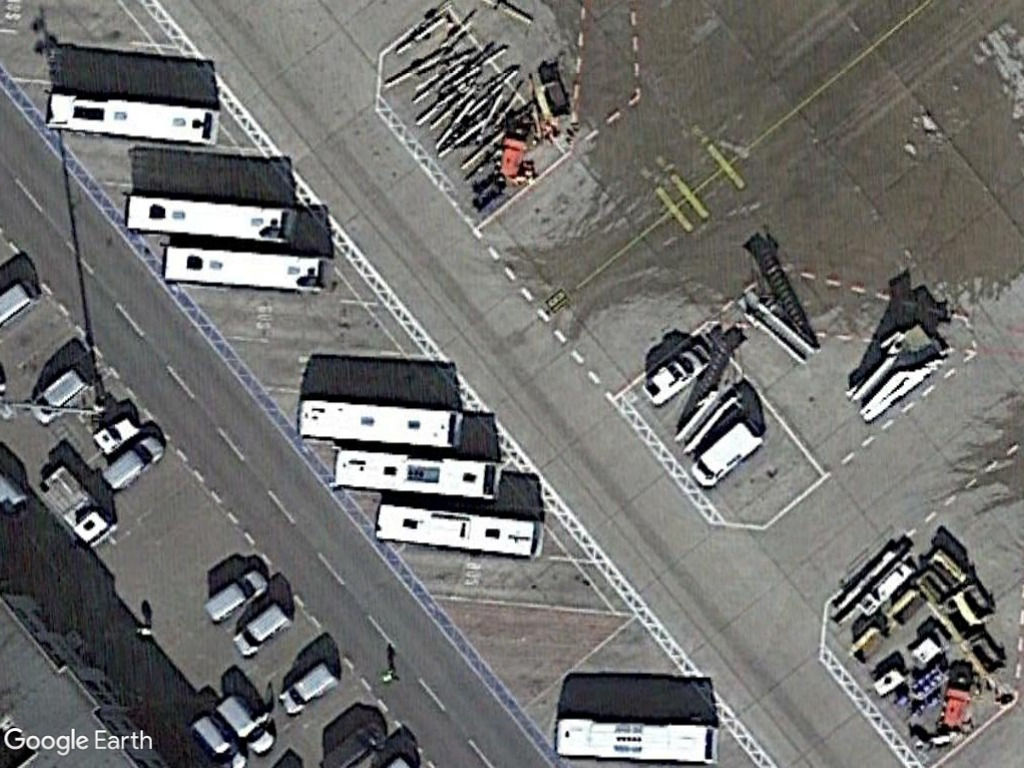bus: (370, 498, 547, 566), (290, 392, 472, 457), (325, 441, 509, 504), (40, 87, 224, 150), (118, 188, 300, 247), (548, 713, 728, 768), (154, 241, 328, 296)
stairtruck: (840, 329, 957, 429), (739, 288, 825, 371)
van: (26, 360, 92, 427), (202, 565, 272, 628), (211, 692, 277, 756), (274, 657, 340, 716), (101, 434, 168, 492), (184, 711, 250, 768), (232, 603, 296, 660)
